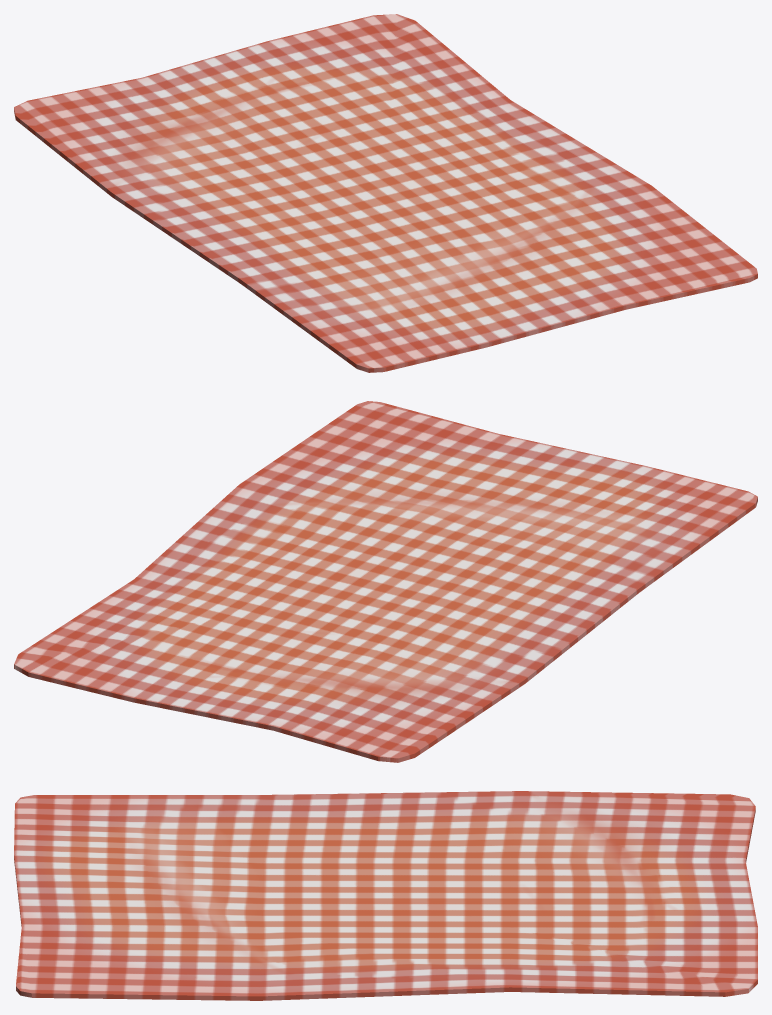
File: PicnicBlanket.fbx
3 views of the same model, one above another, from view 1: azimuth 30°, elevation 25°; view 2: azimuth 150°, elevation 25°; view 3: azimuth 270°, elevation 25° (orthographic). The views are drawn at different scales.
Parts seen in each view (by area): view 1: Plane.002; view 2: Plane.002; view 3: Plane.002.
Boxes of the visible parts, x1,y1,x2,y2 form: Plane.002: [14, 14, 757, 372]; Plane.002: [14, 401, 757, 762]; Plane.002: [14, 791, 757, 1000].
Size of the model in its own units: 300 by 3.05 by 458.
